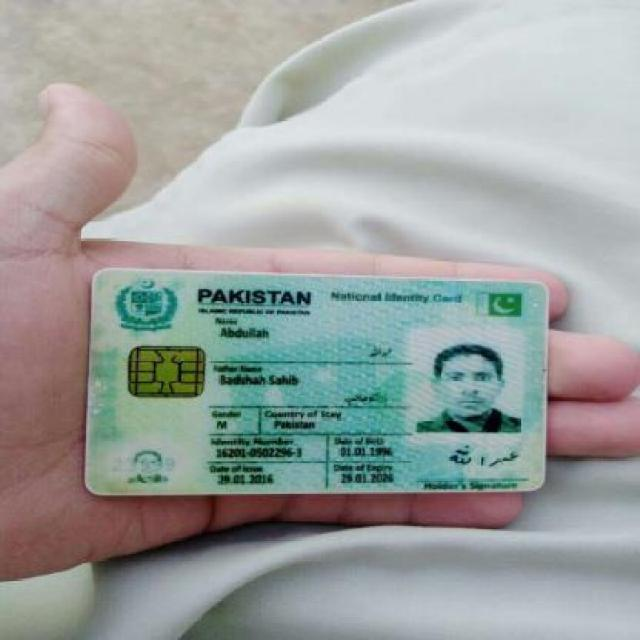Front: (81, 264, 552, 502)
